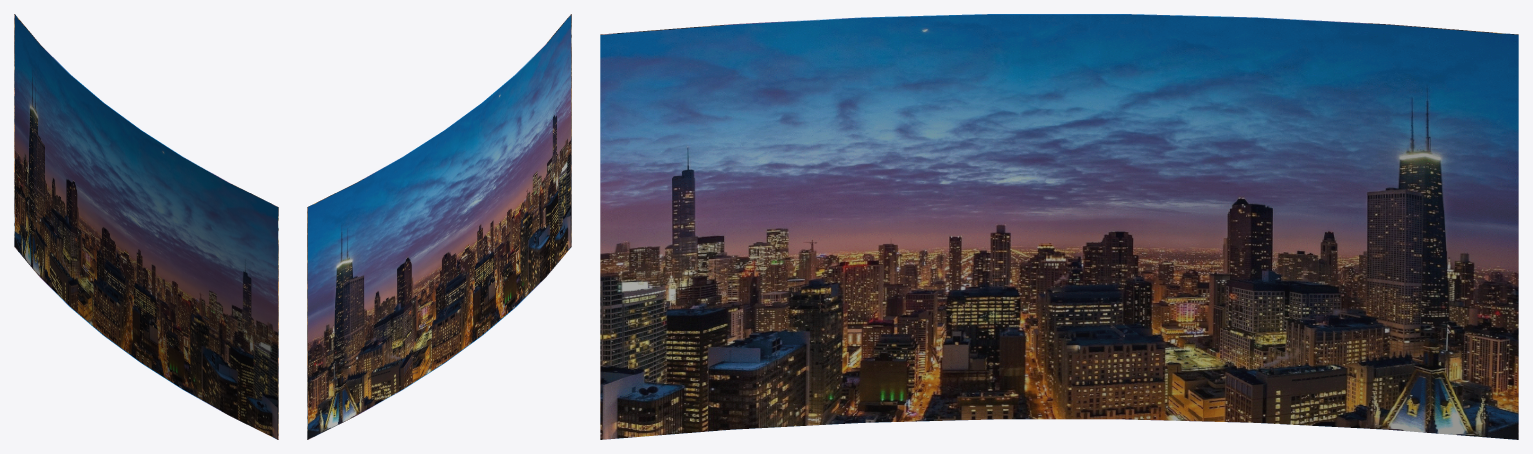
File: CR_Background.FBX
3 renders of one model, left to right at view 1: azimuth 30°, elevation 25°; view 2: azimuth 150°, elevation 25°; view 3: azimuth 270°, elevation 25°, orthographic. The views are drawn at different scales.
Visible parts, largest first — view 1: CR_Background; view 2: CR_Background; view 3: CR_Background.
Boxes of the visible parts, x1,y1,x2,y2 form: CR_Background: (14, 14, 278, 439); CR_Background: (307, 14, 571, 439); CR_Background: (600, 14, 1518, 439).
Size of the model in its own units: 60.8 by 546 by 1122.
